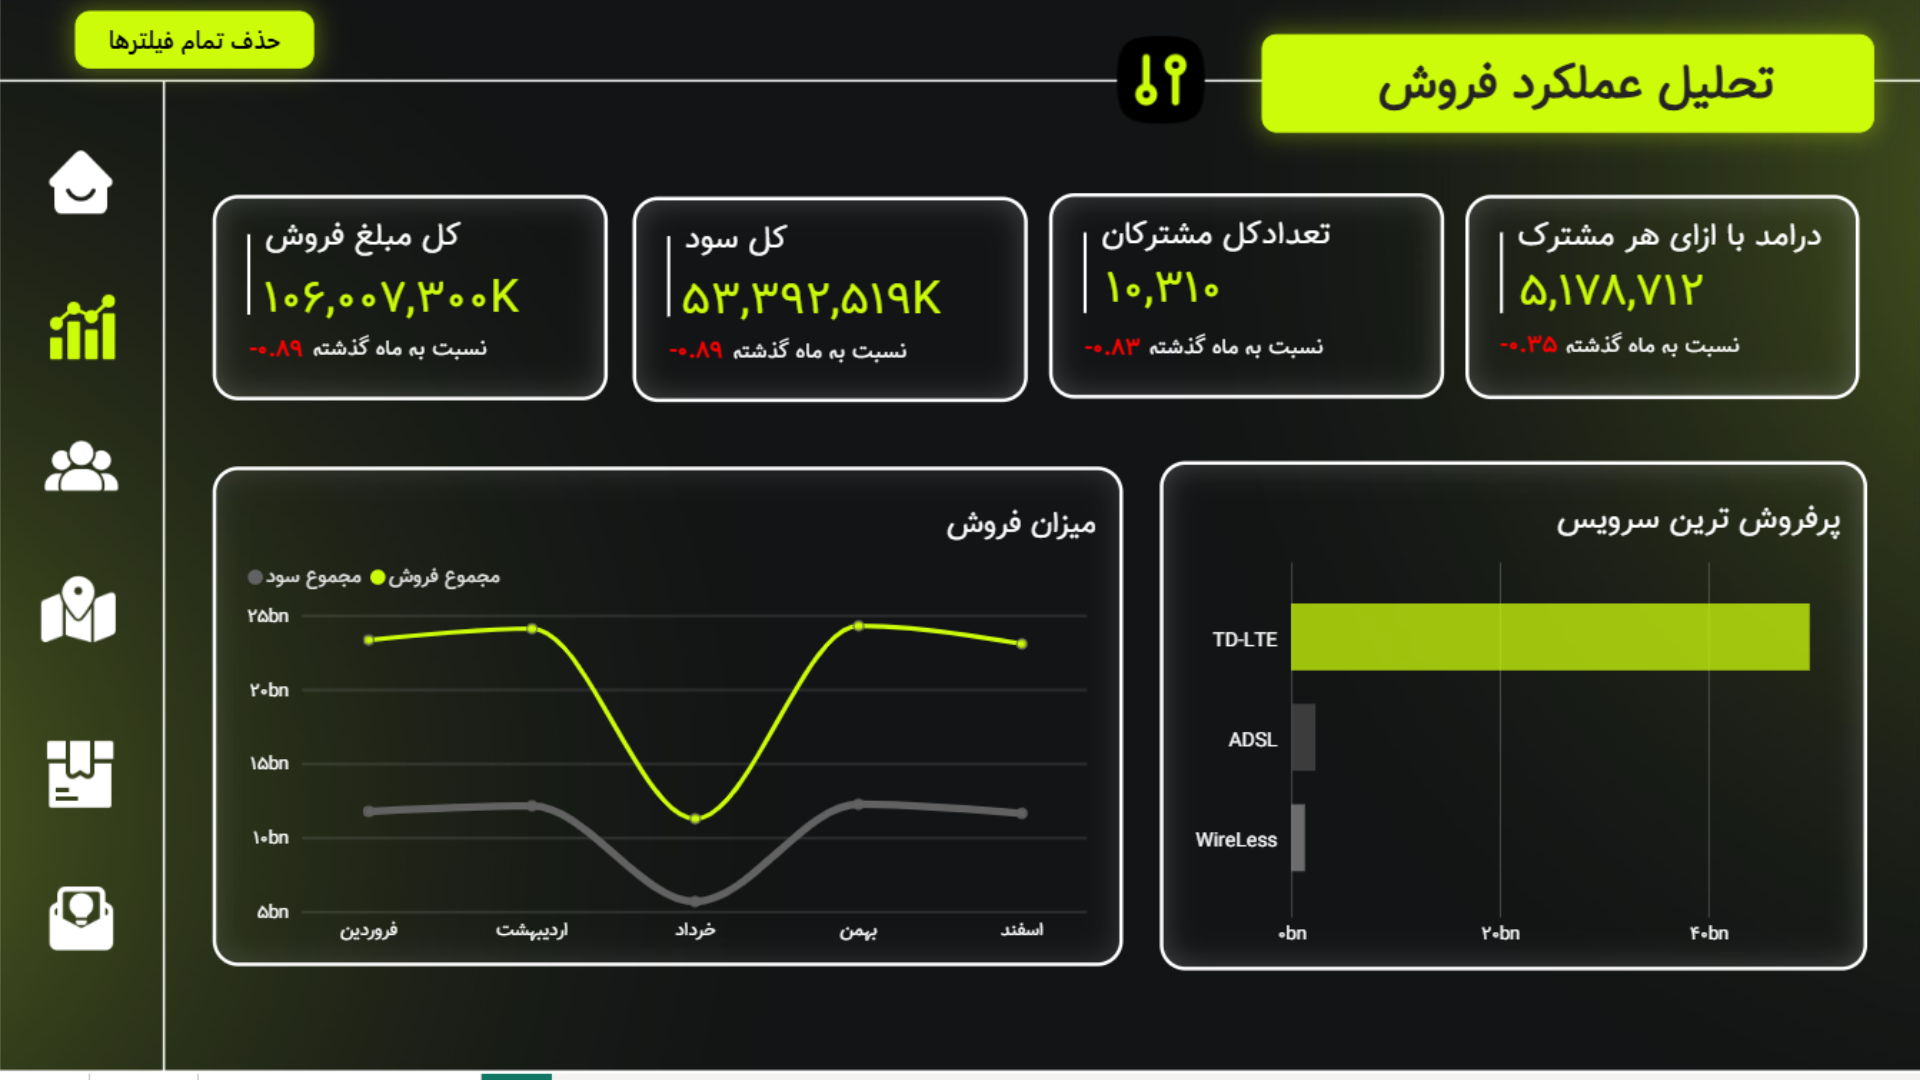

The page's visual inventory and layout, read from the dashboard file:
{"tool":"powerbi","page":{"name":"Page 1","canvas":[1280,720],"ordinal":1},"visuals":[{"type":"group","id":"g1","title":"UI_Background","box":[0,0,1279.6,720.7],"z":0},{"type":"shape","title":"Shape_Up","box":[0,0,1280.3,60.4],"z":0,"group":"g1"},{"type":"shape","box":[388,136,227,136],"z":0,"group":"g4"},{"type":"shape","box":[141,137,228,136],"z":0,"group":"g2"},{"type":"shape","title":"Shape_Left","box":[0,56.3,109.8,664.2],"z":1000,"group":"g1"},{"type":"group","id":"g2","title":"Cared_1","box":[141,131,228,142],"z":1000,"group":"g3"},{"type":"shape","title":"Shape_Cared_1","box":[154.6,151.8,10.8,58],"z":1000,"group":"g2"},{"type":"shape","title":"Shape_Cared_1","box":[403.3,162.3,10.3,53.5],"z":1000,"group":"g4"},{"type":"group","id":"g3","title":"G_Users","box":[140,23,1106,626.4],"z":2000},{"type":"image","title":"Btn_Home","box":[20.2,98.8,67.9,54.8],"z":2000,"group":"g1"},{"type":"textbox","title":"Title_Cared_1","box":[165.7,131,168.5,46.1],"z":2000,"group":"g2"},{"type":"group","id":"g4","title":"Cared_2","box":[388,136,227,136],"z":2000,"group":"g3"},{"type":"textbox","title":"Title_Cared_1","box":[413.8,143.1,160.1,42.5],"z":2000,"group":"g4"},{"type":"shape","title":"Shape_Main","box":[109.5,59.5,1170.2,660.7],"z":3000,"group":"g1"},{"type":"card","title":"Profit_Cared_1","fields":{"Values":["Dim_Measure.Sales MoM %"]},"box":[155.1,218.6,43.5,33.3],"z":3000,"group":"g2"},{"type":"card","title":"Profit_Cared_1","fields":{"Values":["Dim_Measure.Profit MoM %"]},"box":[403.8,223.8,41.3,30.7],"z":3000,"group":"g4"},{"type":"clusteredBarChart","title":"پرفروش ترین سرویس","fields":{"Category":["Fact_Sales.نوع سرویس"],"Y":["Dim_Measure.Total Profit"]},"box":[636,137,610,504],"z":4000,"group":"g3"},{"type":"image","title":"Btn_Analytis","box":[25,188.1,57.1,69],"z":4000,"group":"g1"},{"type":"textbox","title":"Since_Of_Mounth_1","box":[192.9,216.8,120.5,38.5],"z":4000,"group":"g2"},{"type":"textbox","title":"Since_Of_Mounth_1","box":[439.7,222.2,114.5,35.5],"z":4000,"group":"g4"},{"type":"card","fields":{"Values":["Dim_Measure.Total Sales"]},"box":[162.7,165.8,185,61],"z":5000,"group":"g2"},{"type":"card","fields":{"Values":["Dim_Measure.Total Profit"]},"box":[406.9,173.8,162.1,57.1],"z":5000,"group":"g4"},{"type":"lineChart","title":"میزان فروش","fields":{"Y":["Dim_Measure.Total Profit","Dim_Measure.Total Sales"],"Category":["Dim_Date.jmonthT"]},"box":[140,309,475,333],"z":5000,"group":"g3"},{"type":"image","title":"Btn_Map","box":[25,385.7,57.1,57.1],"z":5000,"group":"g1"},{"type":"shape","title":"Box_Clear_All_Filter","box":[50.2,12.1,159.3,38.1],"z":6000,"group":"g1"},{"type":"textbox","title":"subject","box":[870.1,30.8,356.7,67.5],"z":6000,"group":"g3"},{"type":"shape","title":"Shape_Btn_Filter","box":[746.1,30.7,53,51],"z":7000,"group":"g3"},{"type":"image","title":"Btn_Package","box":[25,490.5,57.1,59.5],"z":7000,"group":"g1"},{"type":"shape","title":"Line_Left","box":[102.7,60.3,12.8,659.8],"z":8000,"group":"g1"},{"type":"image","title":"Btn_help","box":[24.7,590.1,57.6,52.1],"z":9000,"group":"g1"},{"type":"image","title":"Btn_Users","box":[22.6,285.7,63.1,58.3],"z":10000,"group":"g1"},{"type":"shape","title":"Line_UP","box":[0,53.4,1279.9,13.2],"z":11000,"group":"g1"},{"type":"shape","title":"Box_Subject","box":[840.5,27.4,407.9,65.3],"z":12000,"group":"g1"}]}

Visuals, with their boxes in screenshot pixels (x1, y1, x2, y2), scaled from the page's 1280x720 canvas onto the 1920x1080 screenshot:
"UI_Background" group: 0 0 1919 1079
"Shape_Up" shape: 0 0 1919 91
shape: 582 204 922 408
shape: 212 206 554 410
"Shape_Left" shape: 0 84 165 1079
"Cared_1" group: 212 196 554 410
"Shape_Cared_1" shape: 232 228 248 315
"Shape_Cared_1" shape: 605 243 620 324
"G_Users" group: 210 34 1869 974
"Btn_Home" image: 30 148 132 230
"Title_Cared_1" textbox: 249 196 501 266
"Cared_2" group: 582 204 922 408
"Title_Cared_1" textbox: 621 215 861 278
"Shape_Main" shape: 164 89 1919 1079
"Profit_Cared_1" card: 233 328 298 378
"Profit_Cared_1" card: 606 336 668 382
"پرفروش ترین سرویس" clusteredBarChart: 954 206 1869 962
"Btn_Analytis" image: 38 282 123 386
"Since_Of_Mounth_1" textbox: 289 325 470 383
"Since_Of_Mounth_1" textbox: 660 333 831 387
card - Dim_Measure.Total Sales: 244 249 522 340
card - Dim_Measure.Total Profit: 610 261 854 346
"میزان فروش" lineChart: 210 464 922 963
"Btn_Map" image: 38 579 123 664
"Box_Clear_All_Filter" shape: 75 18 314 75
"subject" textbox: 1305 46 1840 147
"Shape_Btn_Filter" shape: 1119 46 1199 123
"Btn_Package" image: 38 736 123 825
"Line_Left" shape: 154 90 173 1079
"Btn_help" image: 37 885 123 963
"Btn_Users" image: 34 429 129 516
"Line_UP" shape: 0 80 1919 100
"Box_Subject" shape: 1261 41 1873 139
